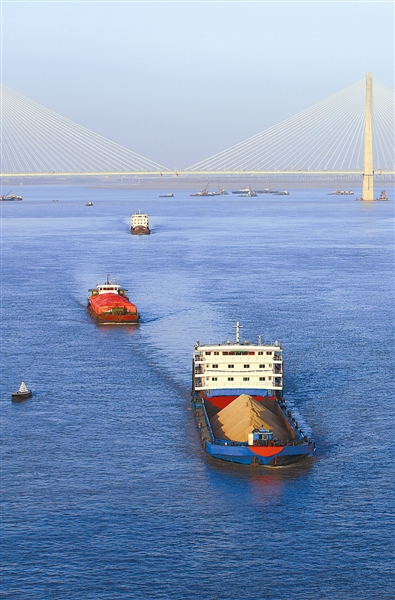boat: (187, 323, 319, 475), (80, 274, 144, 331)
